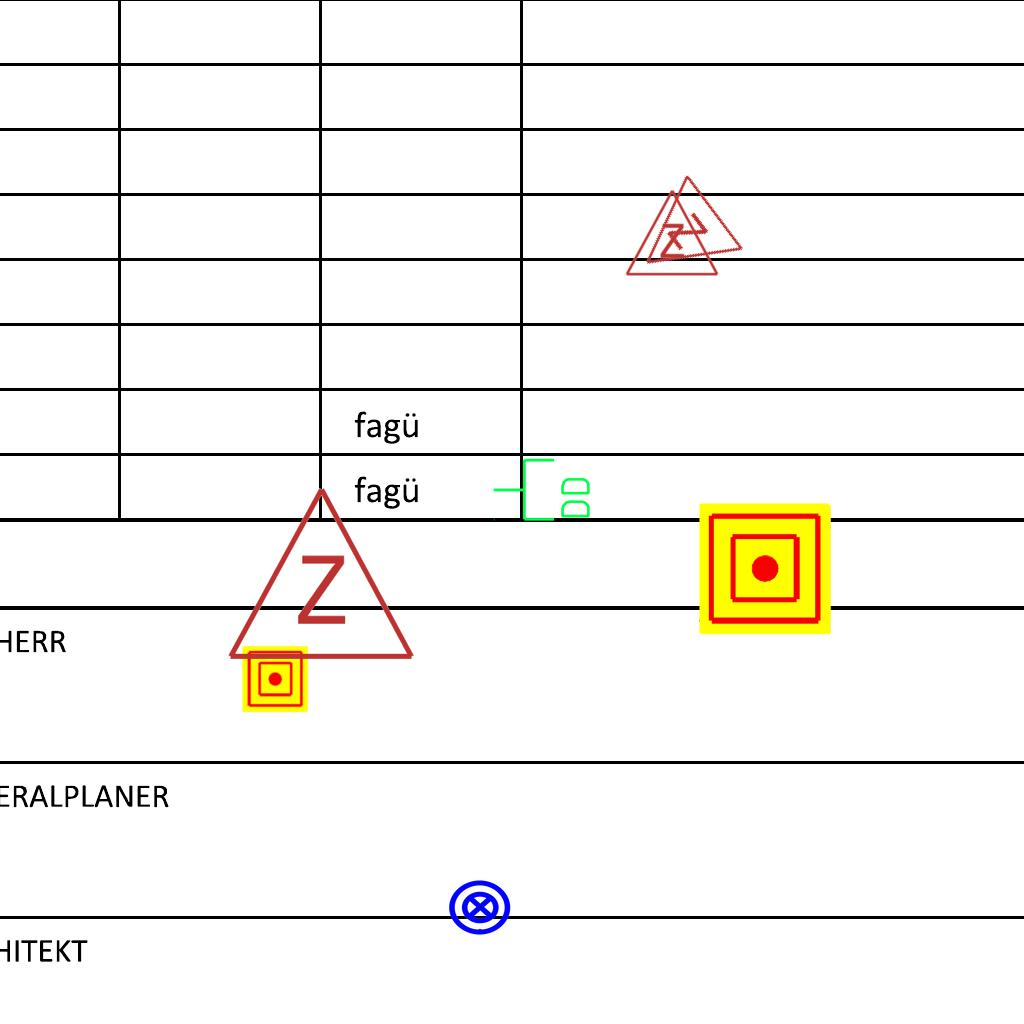Datenanschluss_zweifach: (491, 456, 594, 525)
NAM-Nichtautomatischer_Melder: (699, 503, 831, 635), (242, 646, 308, 712)
Taster_beleuchtet: (447, 874, 513, 940)
Zimmersignalleuchte: (221, 474, 417, 674), (612, 168, 752, 308), (622, 183, 720, 283)
